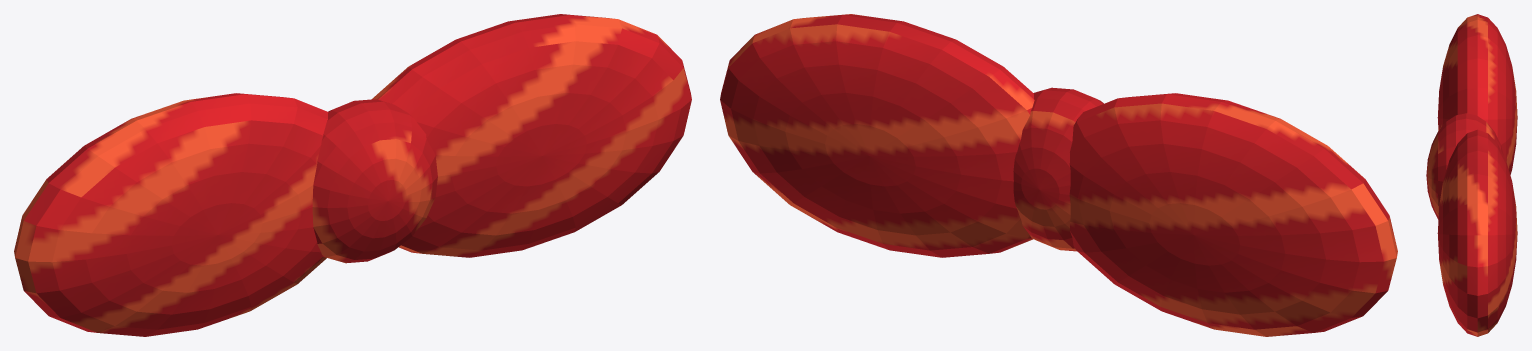
Rendered from mono_rojo.obj.
3 views of the same model, side by side, from view 1: azimuth 30°, elevation 25°; view 2: azimuth 150°, elevation 25°; view 3: azimuth 270°, elevation 25° (orthographic). The views are drawn at different scales.
Parts seen in each view (by area): view 1: mono_rojo; view 2: mono_rojo; view 3: mono_rojo.
Part boxes in pixels (bbox=[...]): mono_rojo: bbox=[14, 14, 691, 336]; mono_rojo: bbox=[720, 14, 1397, 336]; mono_rojo: bbox=[1426, 14, 1517, 336].
Bounding box in the file's own units: 0.5 × 0.16 × 0.08.
Materials: 1 (1 with a texture image).
